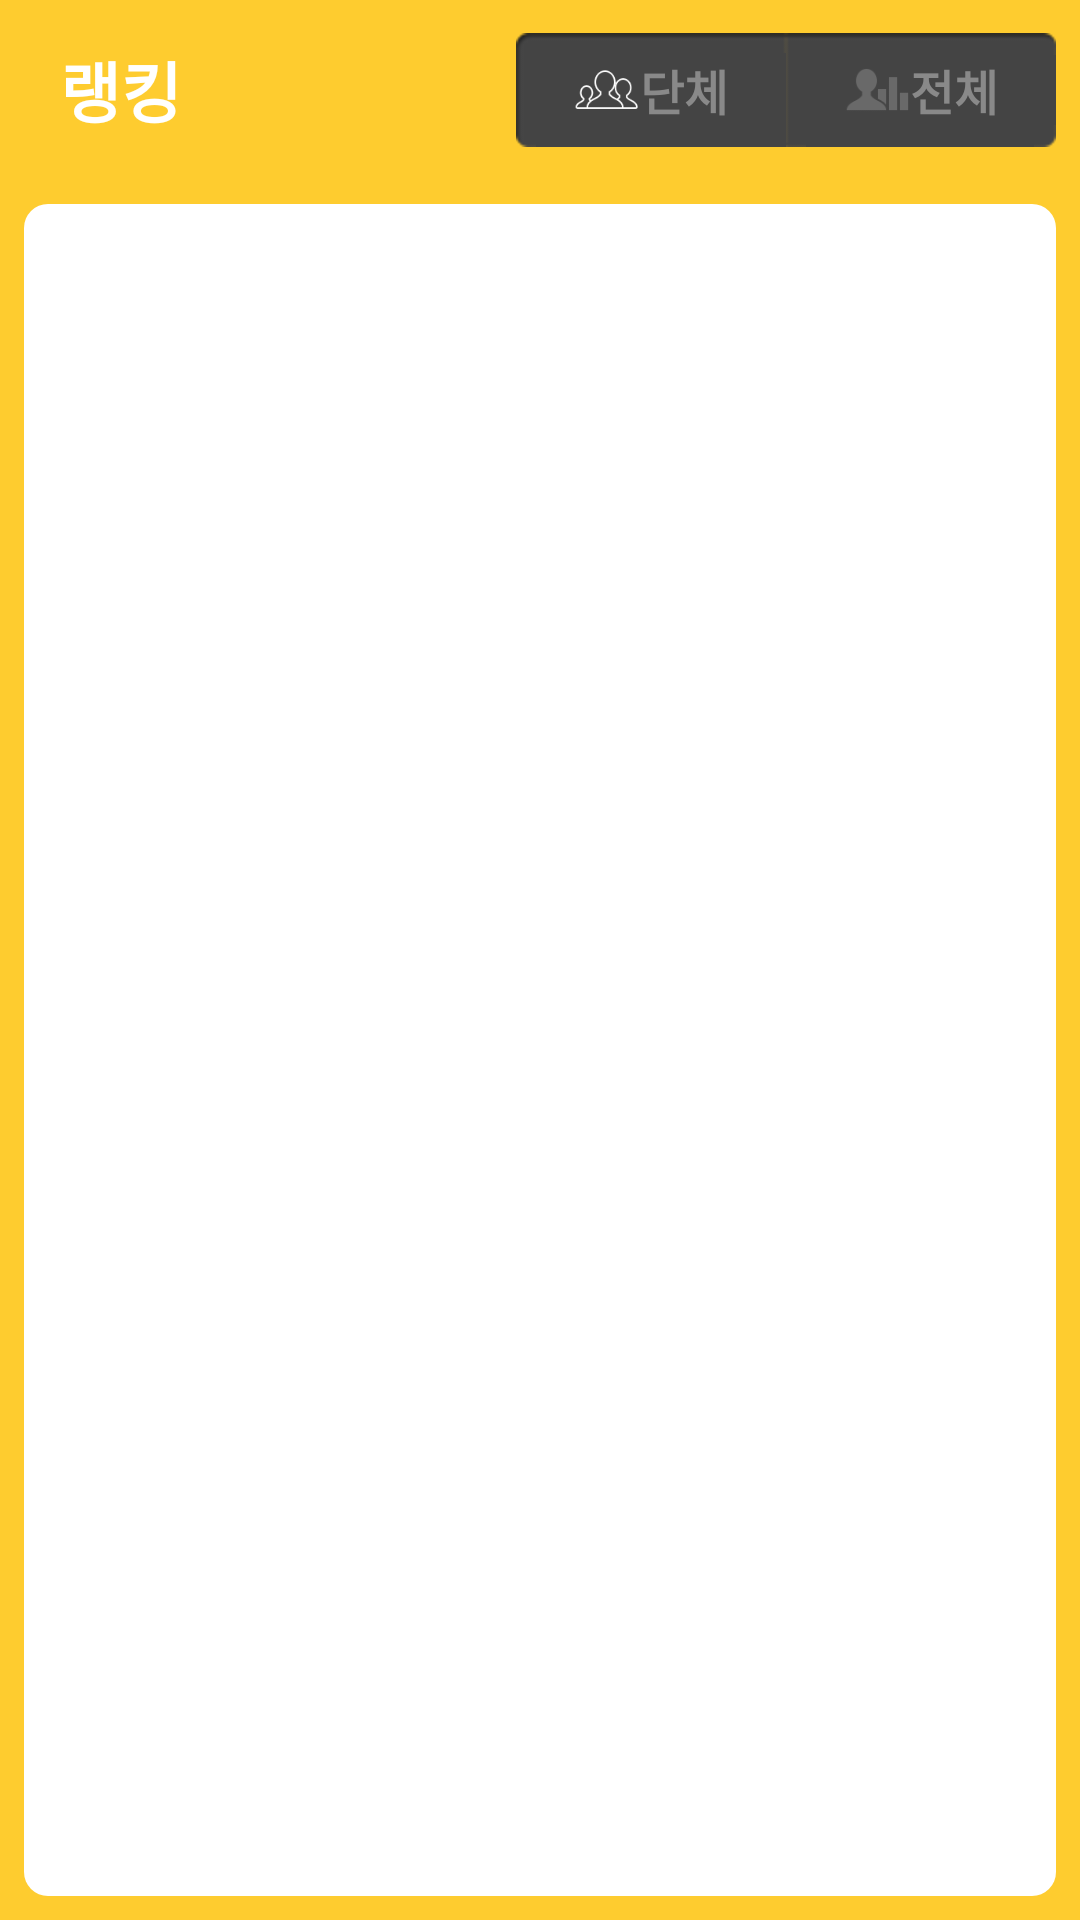

Screen size 1080*1920. Icon name, then its center in pixels as (x=x, y=y):
rank global: (x=877, y=89)
rank member: (x=606, y=89)
